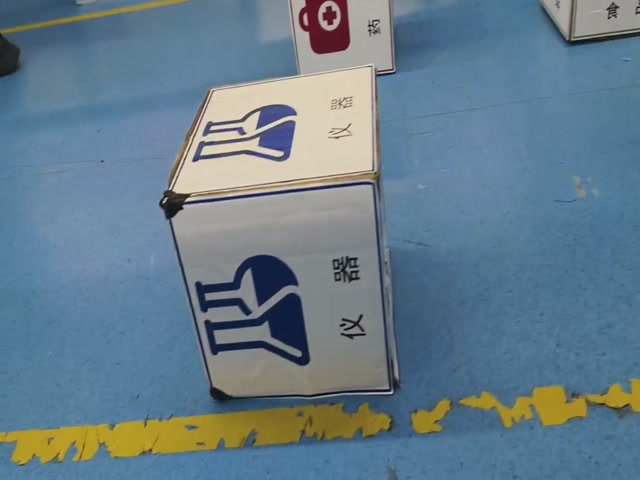Cube_ins: (153, 68, 383, 201)
